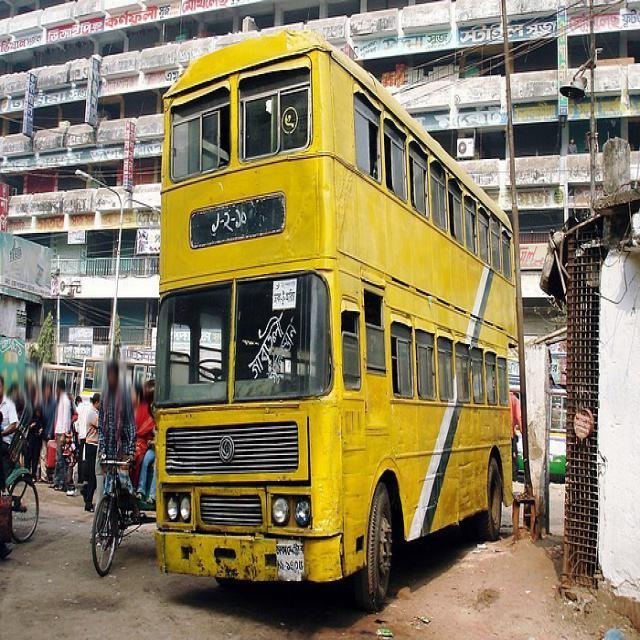bus: (152, 27, 519, 615)
